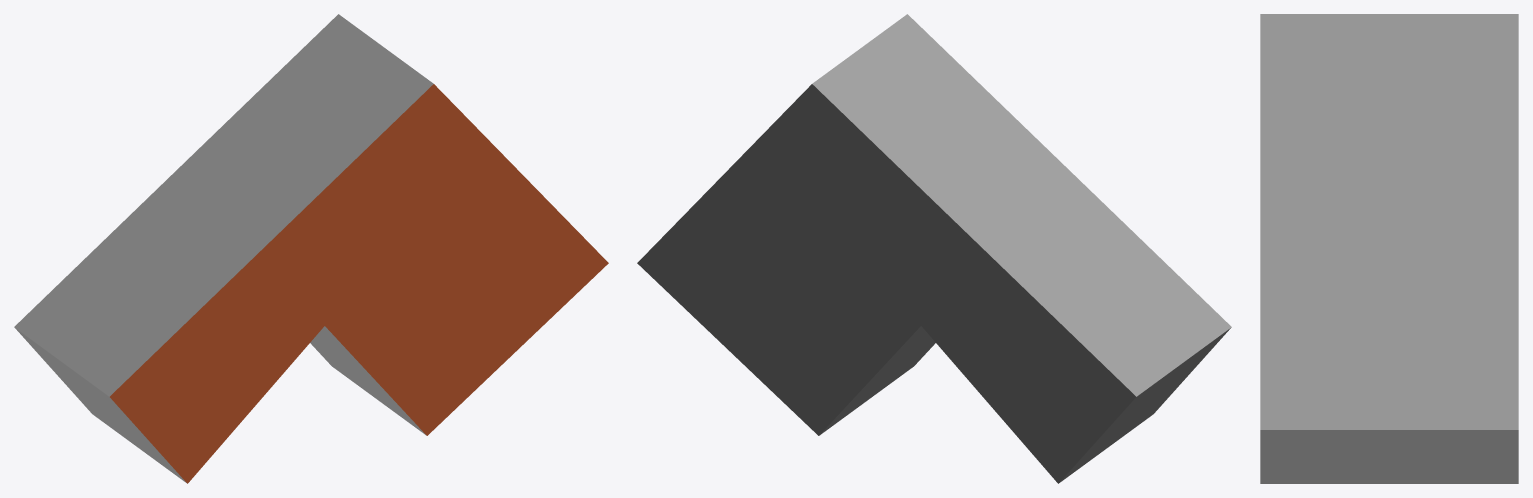
Rendered from construction_1379_assumed_A_Casa_h6m.obj.
3 renders of one model, left to right at view 1: azimuth 30°, elevation 25°; view 2: azimuth 150°, elevation 25°; view 3: azimuth 270°, elevation 25°, orthographic. The views are drawn at different scales.
Visible parts, largest first — view 1: construction_1379_assumed_A_Casa; view 2: construction_1379_assumed_A_Casa; view 3: construction_1379_assumed_A_Casa.
Boxes of the visible parts, box(x1,y1,x2,y2) form: construction_1379_assumed_A_Casa: box(14, 14, 608, 483); construction_1379_assumed_A_Casa: box(637, 14, 1231, 483); construction_1379_assumed_A_Casa: box(1260, 14, 1518, 483).
Size of the model in its own units: 18.14 by 12.17 by 6.
